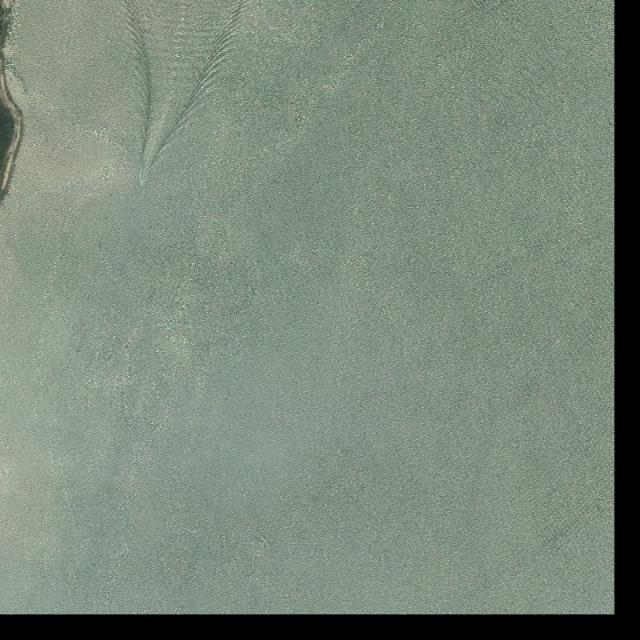ship: (139, 181, 144, 187)
